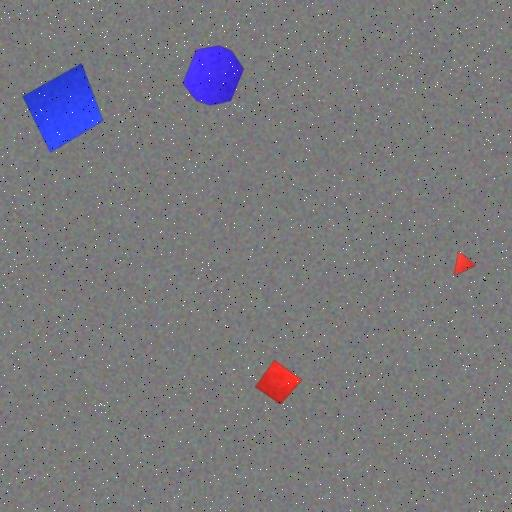BLUE_SQUARE: (22, 63, 104, 153)
RED_SQUARE: (254, 359, 302, 406)
